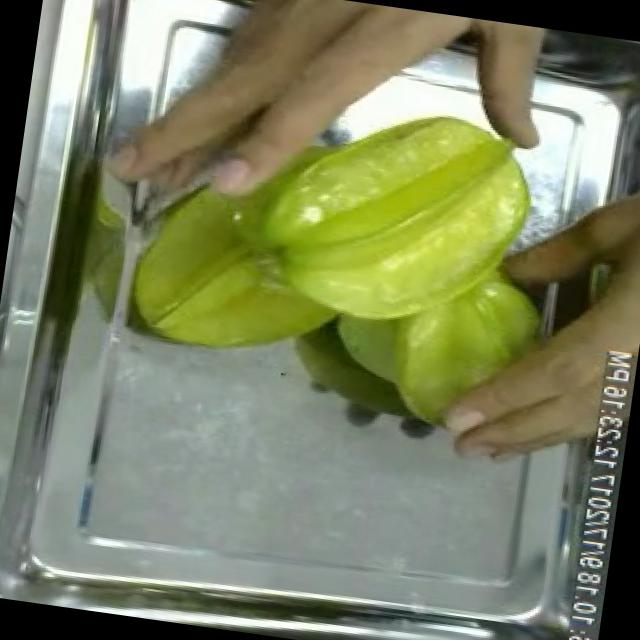fruit: (165, 51, 563, 371), (188, 0, 494, 158), (544, 158, 640, 396)
